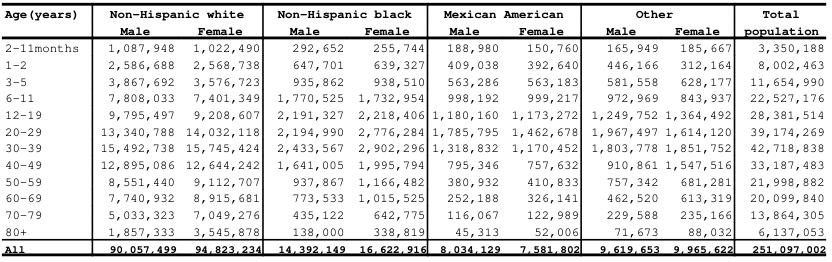table: (3, 4, 825, 256)
table column: (88, 4, 180, 256), (180, 4, 268, 256), (738, 4, 825, 256), (3, 4, 88, 256), (268, 4, 350, 256), (505, 4, 584, 256), (350, 4, 428, 256), (428, 4, 505, 256), (584, 4, 661, 256), (661, 4, 738, 256)
table column header: (3, 4, 825, 39)
table row: (3, 21, 825, 39), (3, 4, 825, 21), (3, 55, 825, 72), (3, 72, 825, 89), (3, 105, 825, 122), (3, 122, 825, 139), (3, 155, 825, 172), (3, 172, 825, 189), (3, 205, 825, 222), (3, 222, 825, 239), (3, 239, 825, 256), (3, 39, 825, 55), (3, 89, 825, 105), (3, 139, 825, 155), (3, 189, 825, 205)
table spanning cell: (88, 4, 268, 21), (738, 4, 825, 39), (3, 4, 88, 39), (268, 4, 428, 21), (428, 4, 584, 21), (584, 4, 738, 21)
